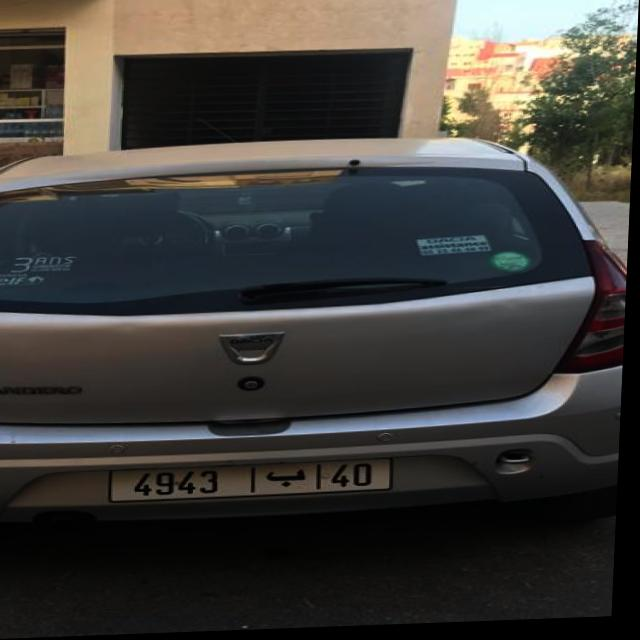License-Plate: (117, 462, 397, 502)
